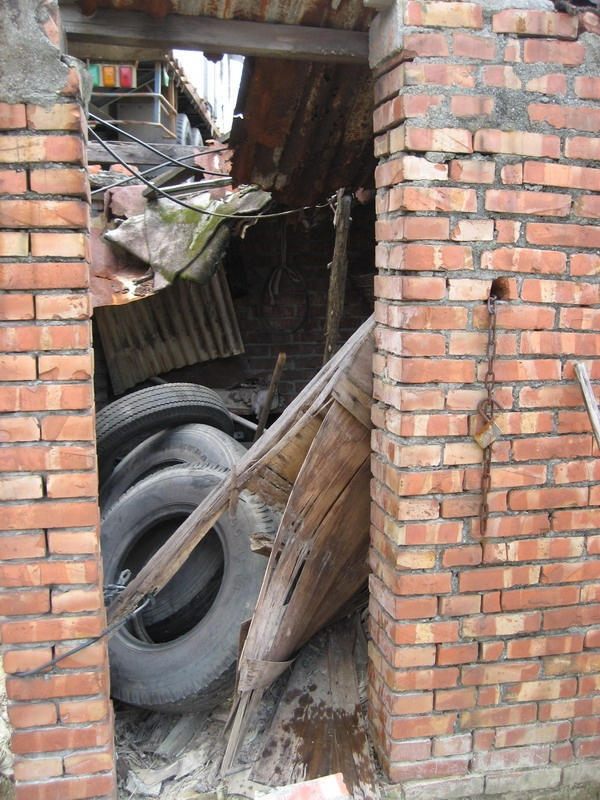tire: (96, 460, 285, 717), (93, 380, 238, 460)
